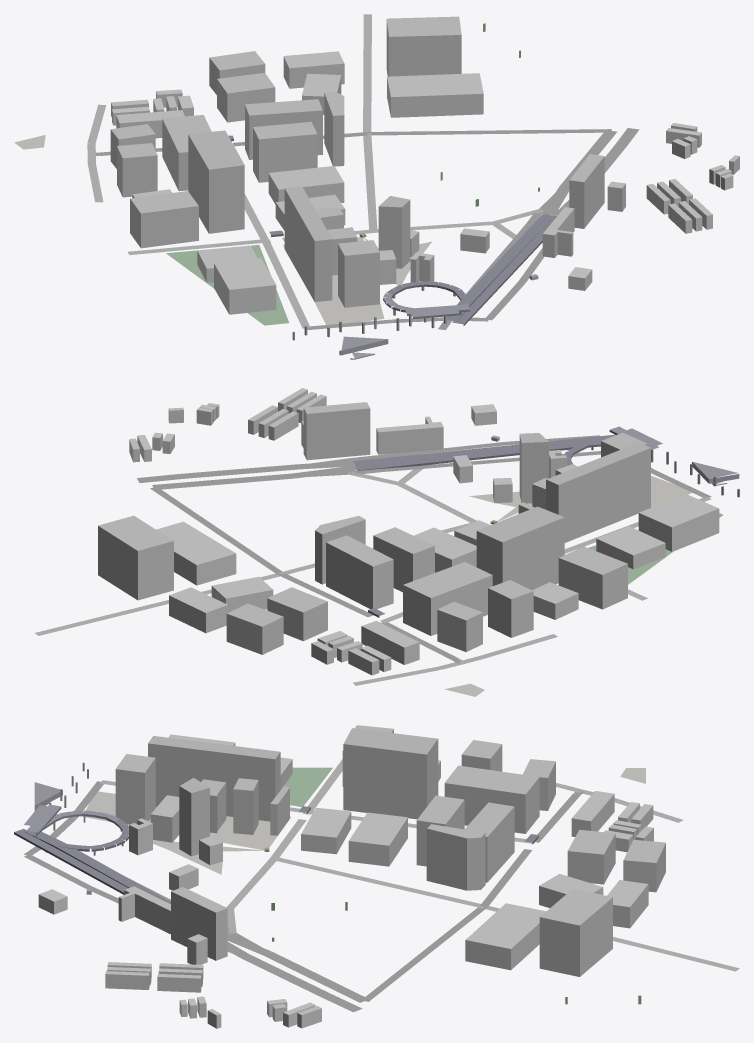
3 renders of one model, top to bottom at view 1: azimuth 30°, elevation 25°; view 2: azimuth 150°, elevation 25°; view 3: azimuth 270°, elevation 25°, orthographic. The views are drawn at different scales.
Size of the model in its own units: 533 by 69.97 by 594.
